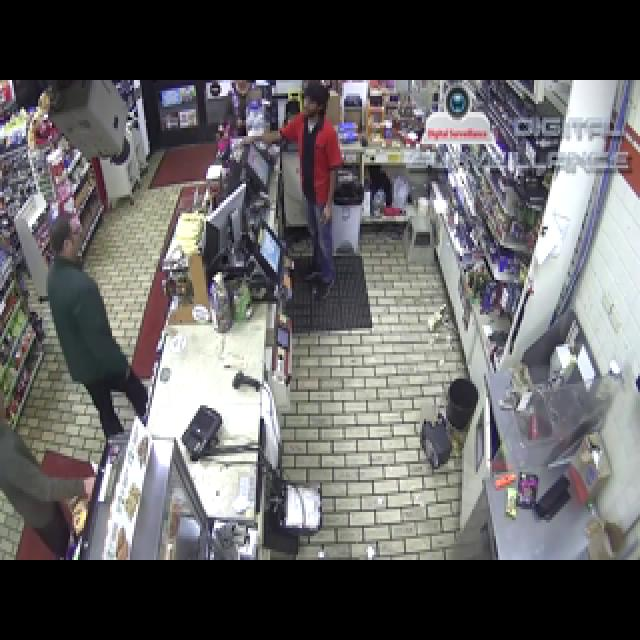vandalism: (2, 79, 640, 562)
